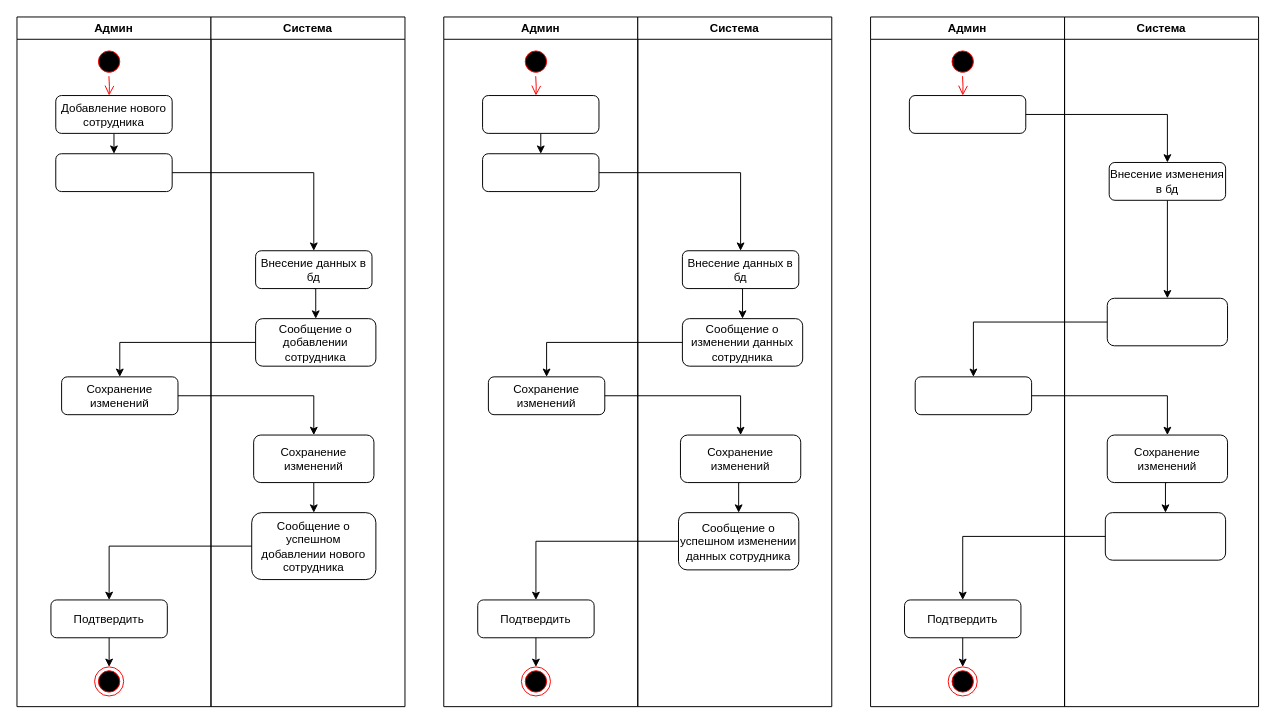
Some shapes in this 1276 by 724 pixel diagram are drawn without their labels. Each missing label, with the centre of its shape:
Внести данные нового сотрудника: pixel 113 172
Внести данные сотрудника: pixel 540 172
Изменить данные сотрудника: pixel 540 114
Подтвердить удаление: pixel 973 395
Сообщение о удалении сотрудника: pixel 1167 321
Сообщение о успешном удалении сотрудника: pixel 1165 536
Удалить сотрудника: pixel 967 114
